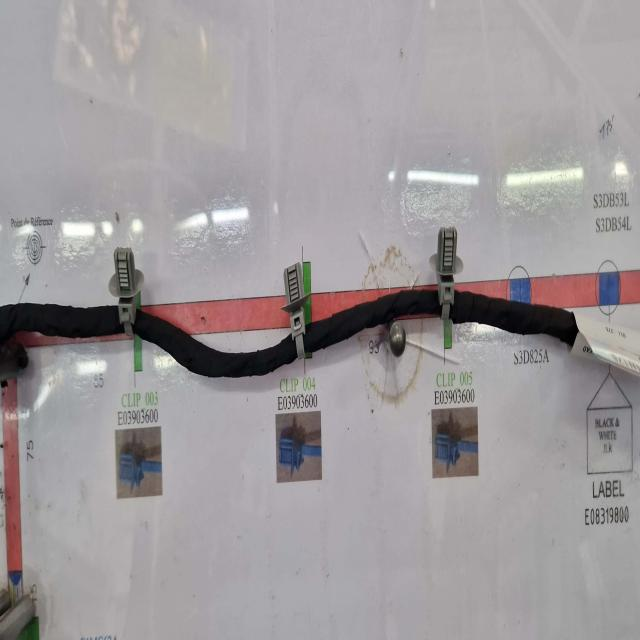Clip: (109, 246, 144, 336), (431, 226, 464, 319), (283, 262, 311, 357)
Info: (574, 303, 640, 376)
MHEV_N11_Cable: (136, 308, 299, 376), (305, 286, 442, 352), (451, 289, 579, 346), (0, 300, 125, 344)
